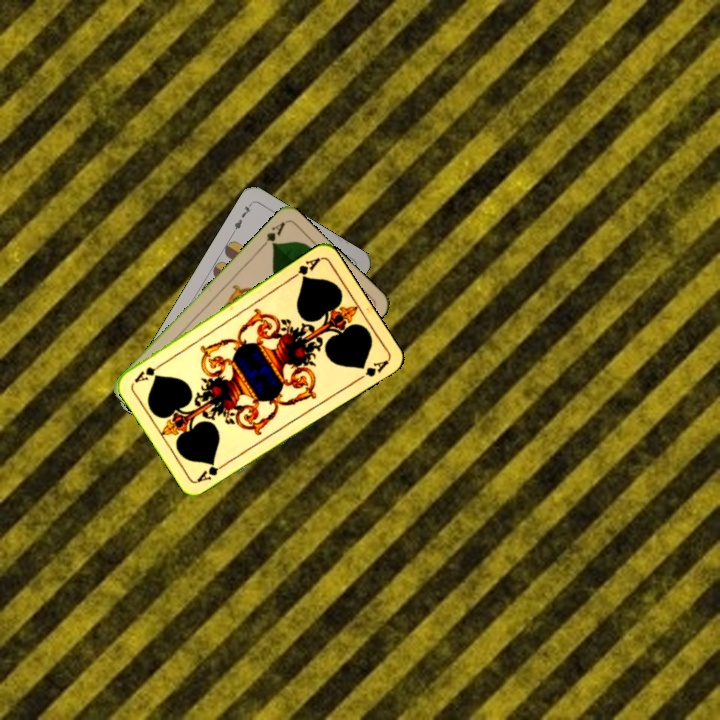E7: (228, 199, 254, 236)
GA: (256, 218, 288, 252), (287, 253, 323, 282), (193, 458, 230, 485)
